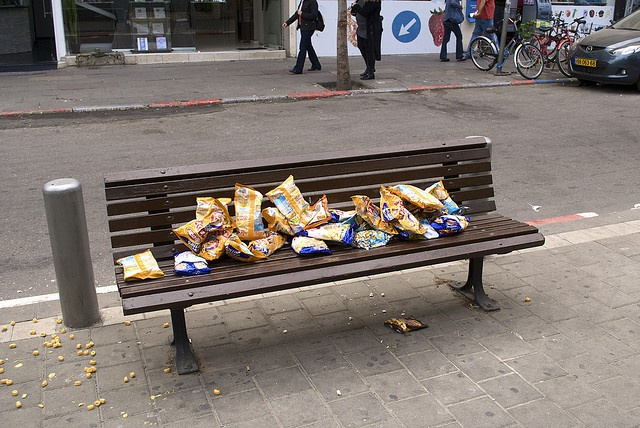non-vehicle: (469, 14, 543, 78), (522, 16, 584, 77)
